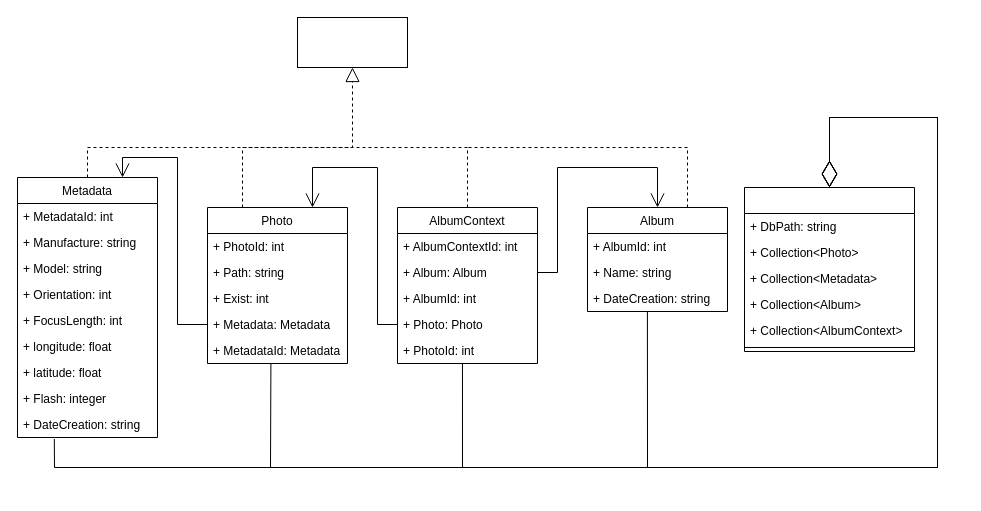
Some shapes in this 981 by 511 pixel diagram are drawn without their labels. Each missing label, with the box of its shape:
Database: (744, 186, 914, 352)
«interface» ITable: (296, 16, 408, 68)
